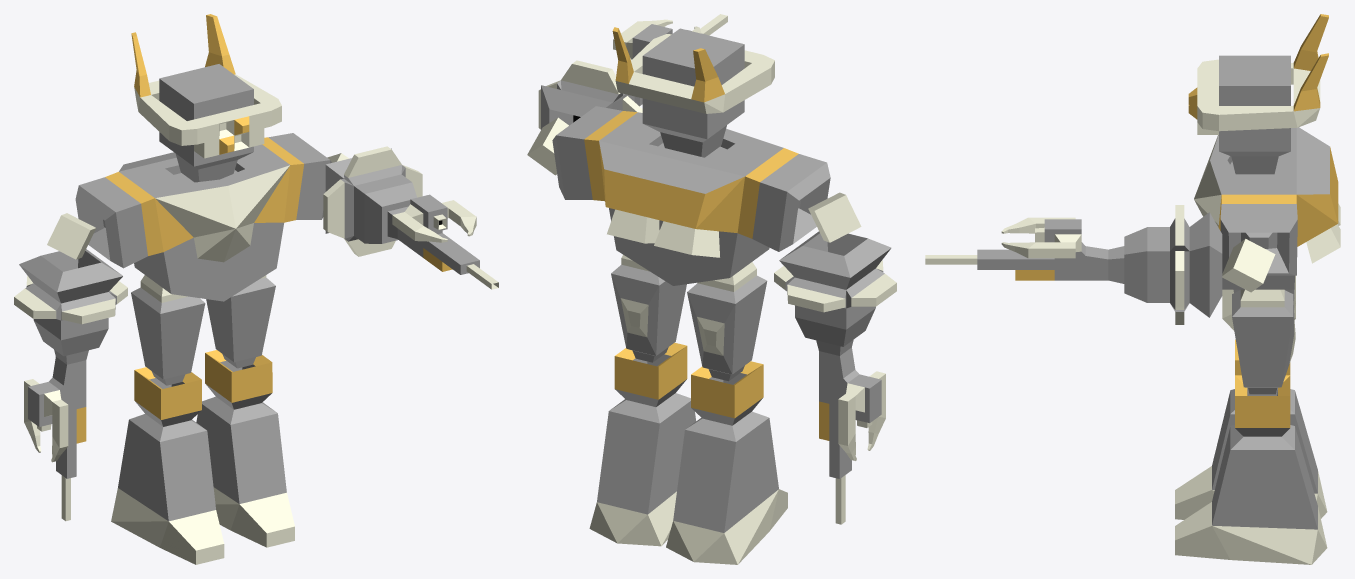
File: mecha.glb
The picture shows the model from 3 angles, left to right: view 1: azimuth 30°, elevation 25°; view 2: azimuth 150°, elevation 25°; view 3: azimuth 270°, elevation 25°; orthographic projection. The views are drawn at different scales.
Visible parts, largest first — view 1: Object_4, Object_5, Object_2; view 2: Object_4, Object_5, Object_2; view 3: Object_4, Object_5, Object_2.
Part boxes in pixels (<box>): Object_4: <box>19,64,479,521</box>; Object_5: <box>14,74,498,564</box>; Object_2: <box>76,14,452,443</box>; Object_4: <box>541,24,891,532</box>; Object_5: <box>527,14,896,564</box>; Object_2: <box>584,27,829,440</box>; Object_4: <box>977,55,1329,529</box>; Object_5: <box>925,59,1340,564</box>; Object_2: <box>1015,14,1338,427</box>.
Bounding box in the file's own units: 12 × 15.19 × 11.57.
